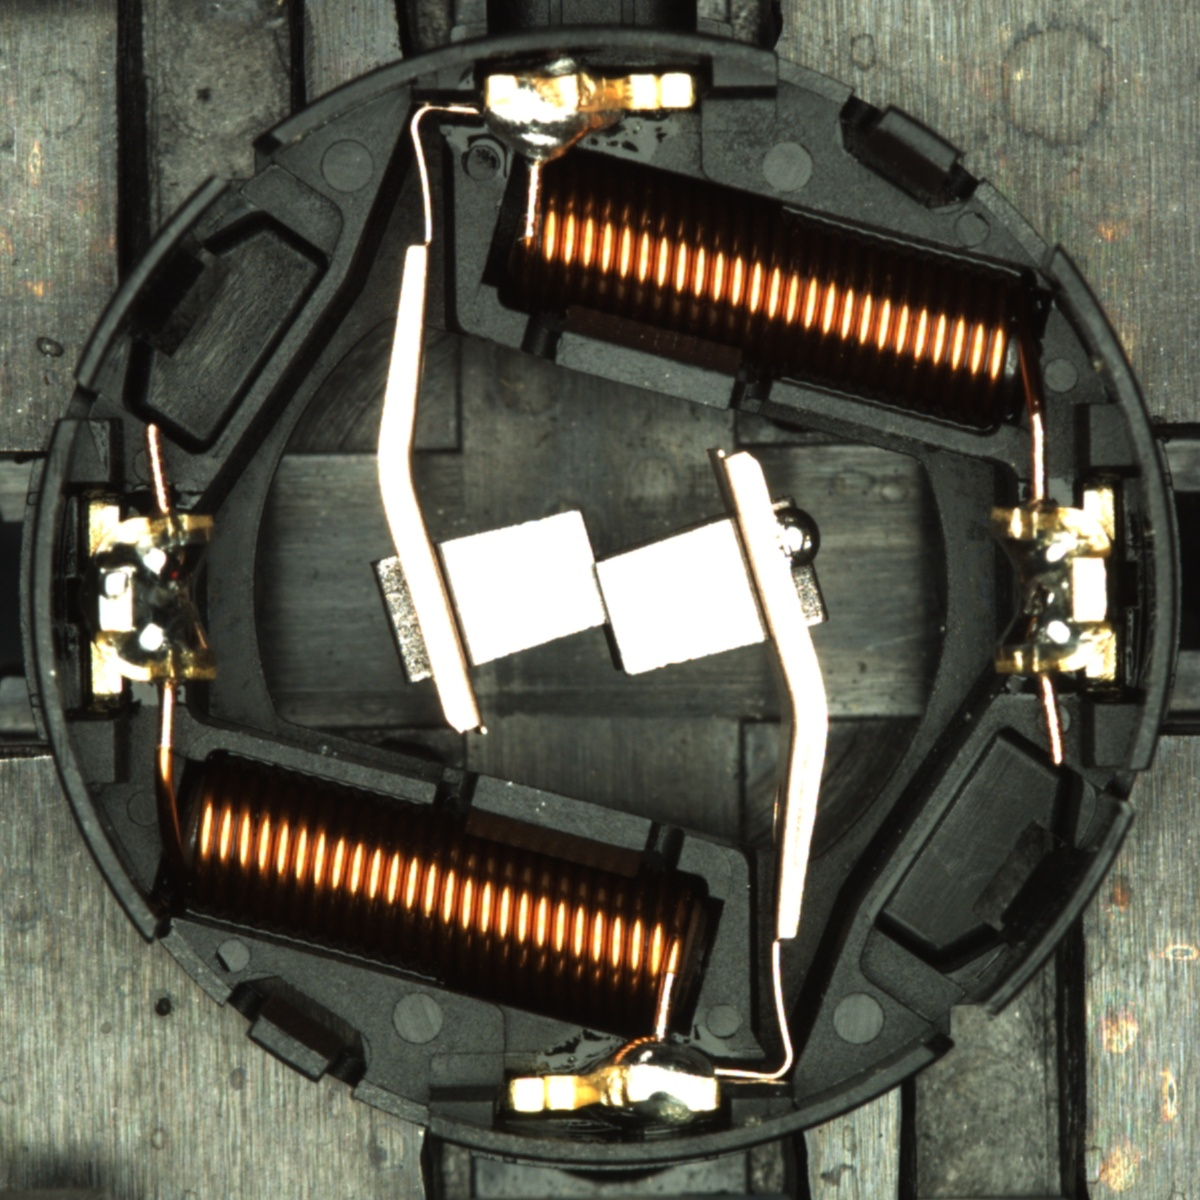1: (258, 55, 487, 279), (716, 953, 945, 1177)
2: (716, 55, 945, 279), (258, 953, 487, 1177)
3: (29, 279, 258, 503), (945, 729, 1175, 953)
4: (258, 279, 487, 503), (716, 729, 945, 953)
5: (487, 167, 716, 391), (487, 841, 716, 1065)
6: (716, 279, 945, 503), (258, 729, 487, 953)
7: (945, 279, 1175, 503), (29, 729, 258, 953)
chau_dien: (81, 497, 221, 700), (984, 488, 1123, 686)
hat_chi: (771, 507, 822, 567)
tay_choi: (481, 70, 700, 170), (505, 1026, 722, 1119)
thanh_de: (954, 786, 1142, 1030), (60, 164, 246, 404)
